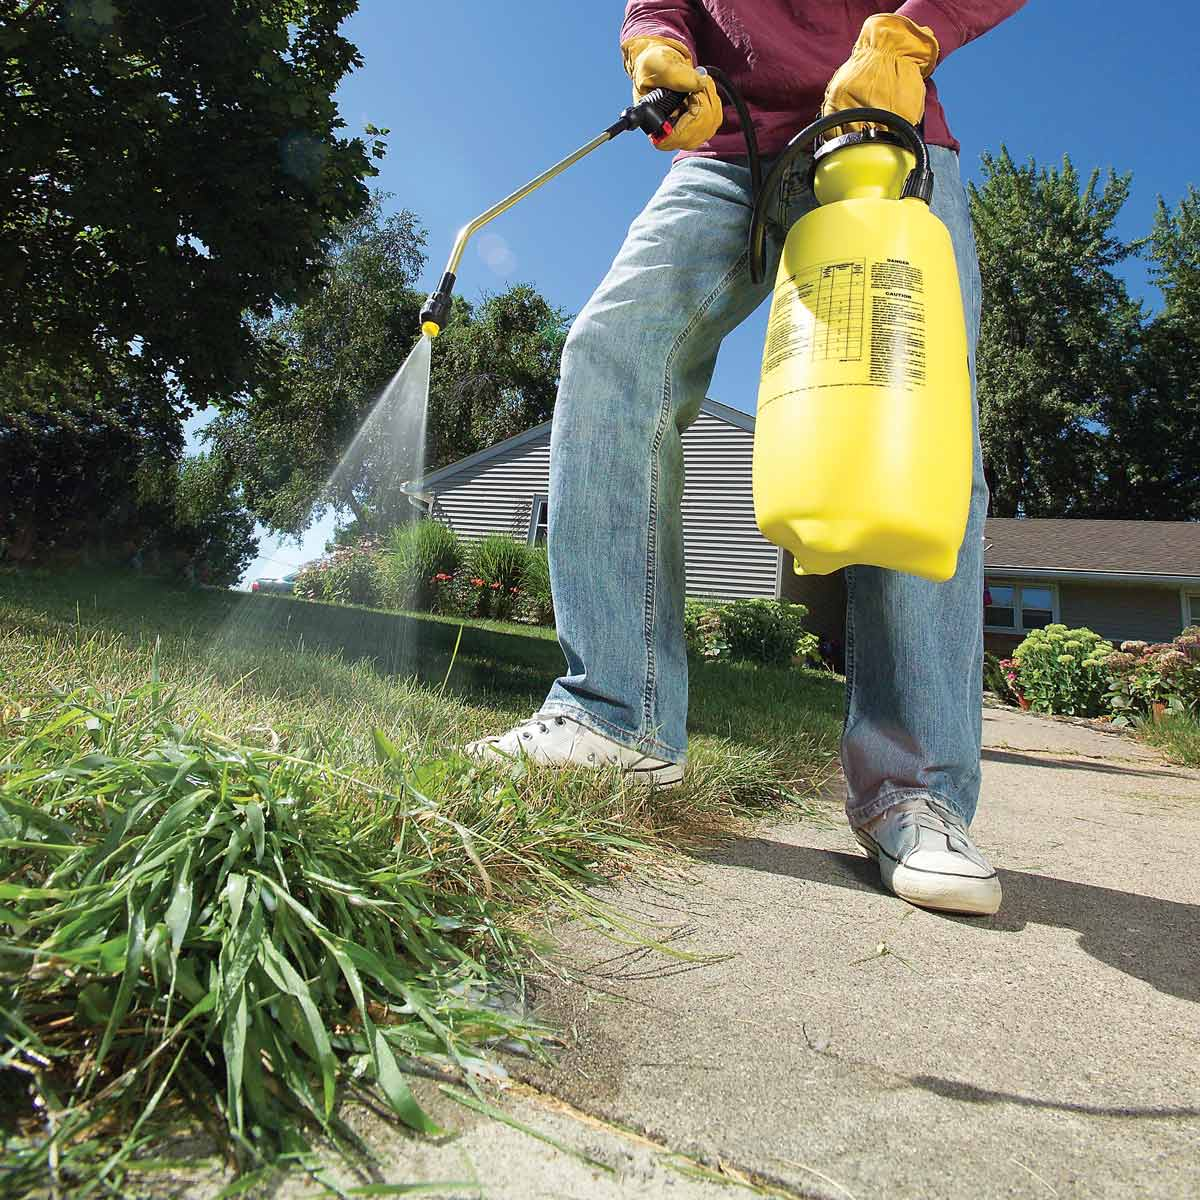crabgrass: (24, 699, 442, 1101)
